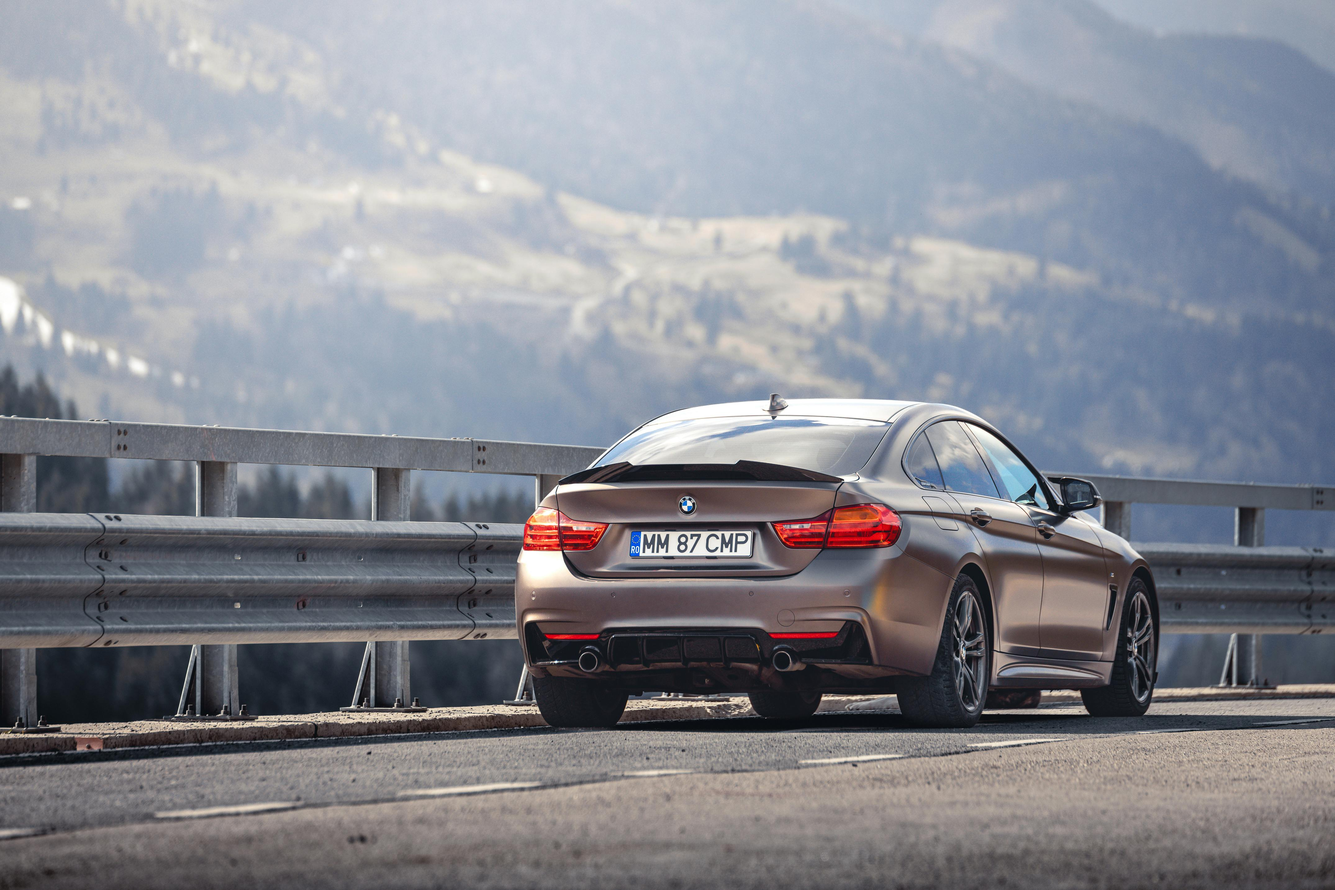other: (514, 386, 1161, 722)
